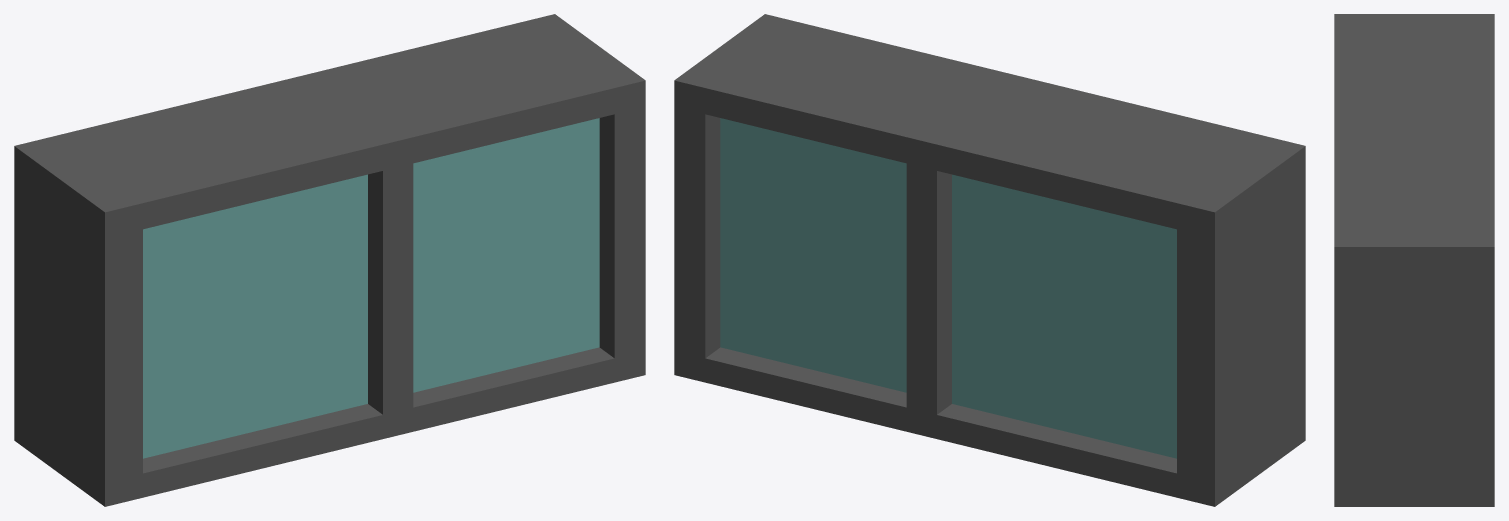
The model's file is window.fbx.
3 views of the same model, side by side, from view 1: azimuth 30°, elevation 25°; view 2: azimuth 150°, elevation 25°; view 3: azimuth 270°, elevation 25° (orthographic). The views are drawn at different scales.
Parts seen in each view (by area): view 1: Window.001; view 2: Window.001; view 3: Window.001.
Part boxes in pixels (left/top/right/bottom): Window.001: left=14, top=14, right=645, bottom=506; Window.001: left=674, top=14, right=1305, bottom=506; Window.001: left=1334, top=14, right=1494, bottom=506.
Size of the model in its own units: 9.71 by 5.06 by 2.83.
